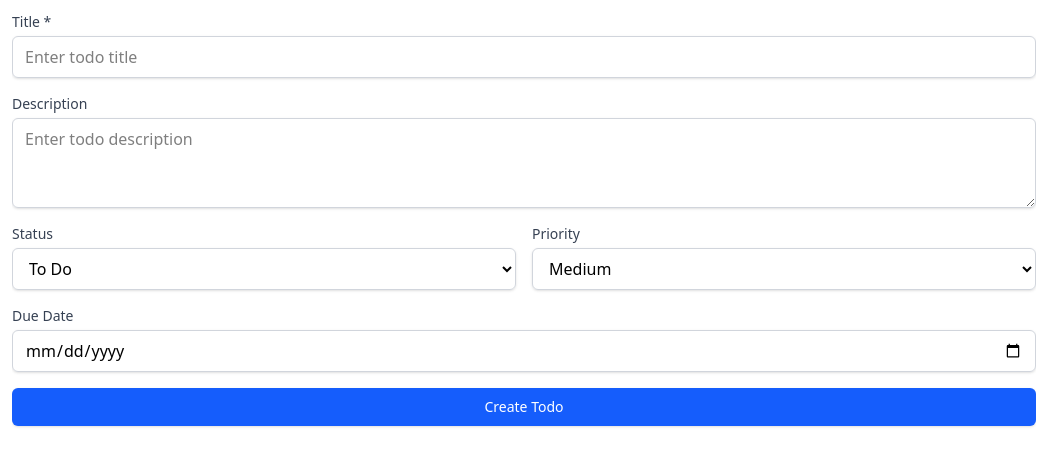
Test case: Form Validation › should show validation errors for todo form
Note: Submit empty form
What coordinates should you click on to do the following:
click the button "Create Todo"
I would click on:
 (524, 407)
Its box is [12,388,1036,426].
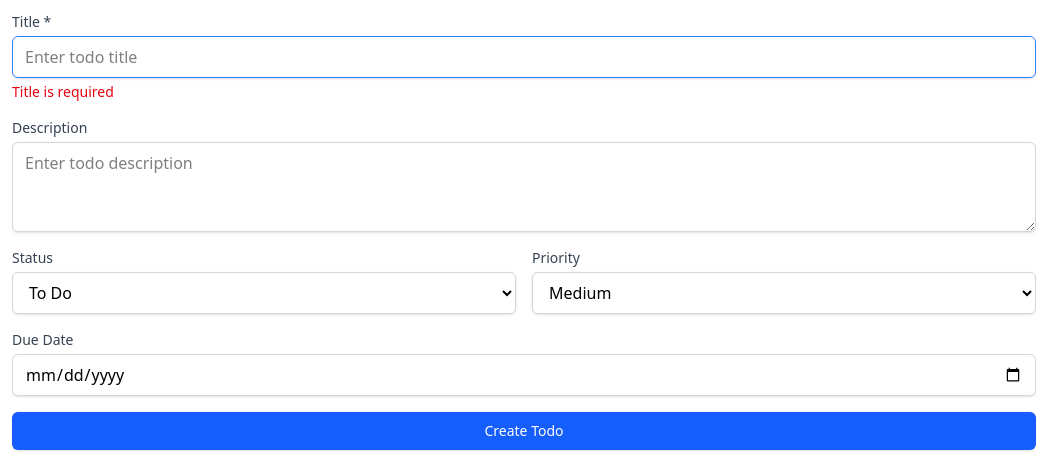
Now the text "Title is required" is shown, box [12,82,114,101]
